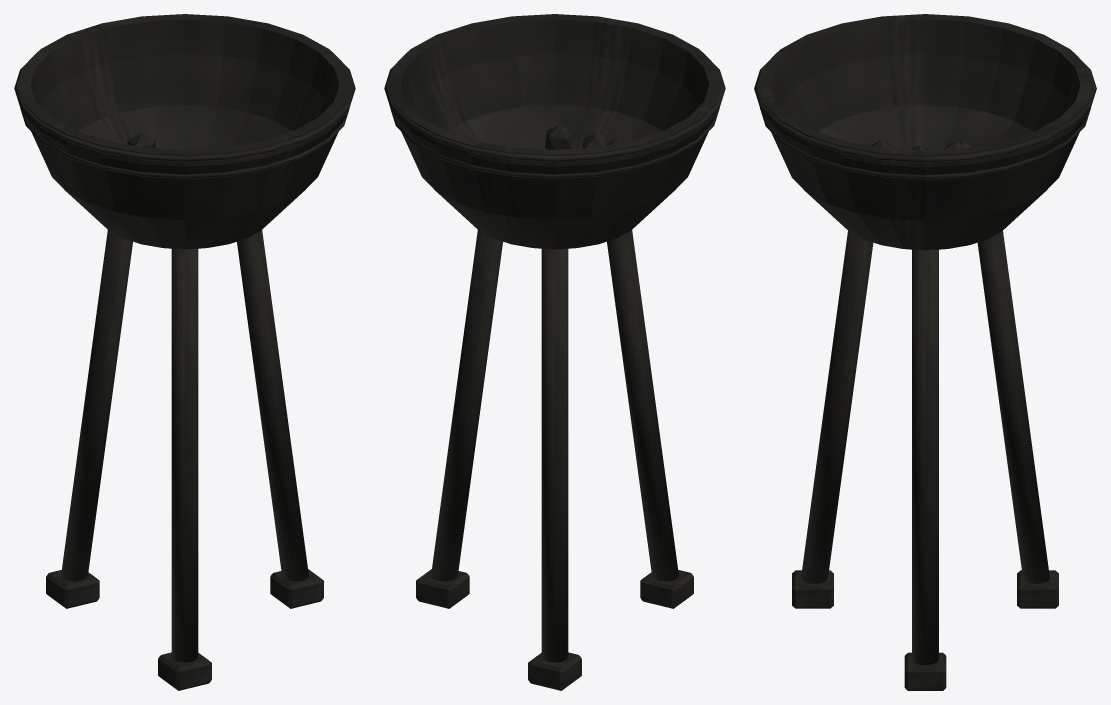
File: arena-brazier.glb
The picture shows the model from 3 angles, left to right: view 1: azimuth 30°, elevation 25°; view 2: azimuth 150°, elevation 25°; view 3: azimuth 270°, elevation 25°; orthographic projection.
Visible parts, largest first — view 1: arena-brazier; view 2: arena-brazier; view 3: arena-brazier.
Part boxes in pixels (<box>): arena-brazier: <box>14,14,355,690</box>; arena-brazier: <box>384,14,725,690</box>; arena-brazier: <box>754,14,1096,690</box>.
Size of the model in its own units: 0.8 by 1.4 by 0.8.
Materials: 1 (1 with a texture image).
